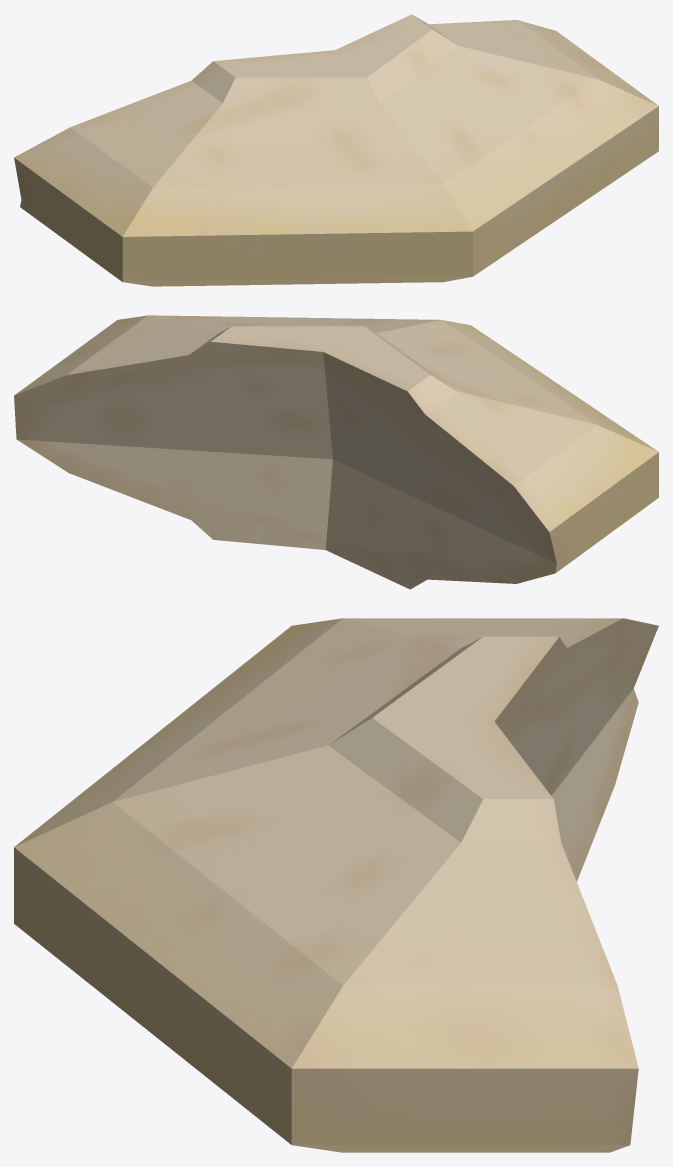
The model's file is Foods_FishballEaten.fbx.
The picture shows the model from 3 angles, top to bottom: view 1: azimuth 30°, elevation 25°; view 2: azimuth 150°, elevation 25°; view 3: azimuth 270°, elevation 25°; orthographic projection. The views are drawn at different scales.
Parts seen in each view (by area): view 1: FishballBite; view 2: FishballBite; view 3: FishballBite.
Part boxes in pixels (<box>): FishballBite: <box>14,14,658,286</box>; FishballBite: <box>14,315,658,589</box>; FishballBite: <box>14,618,658,1152</box>.
Bounding box in the file's own units: 253 × 156 × 89.43.
1 material, 1 textured.
